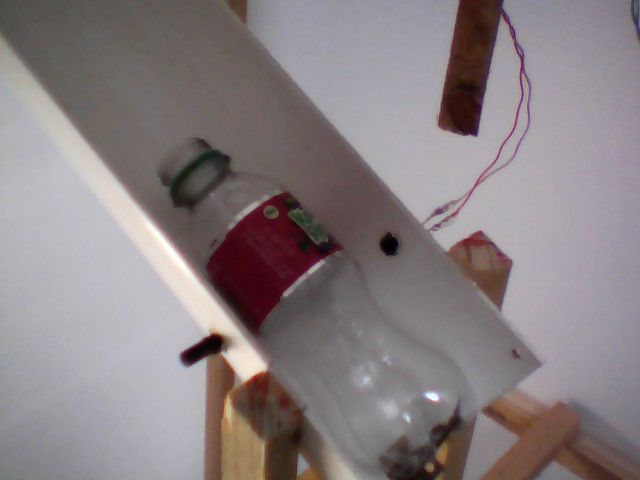plastico: (150, 133, 476, 480)
